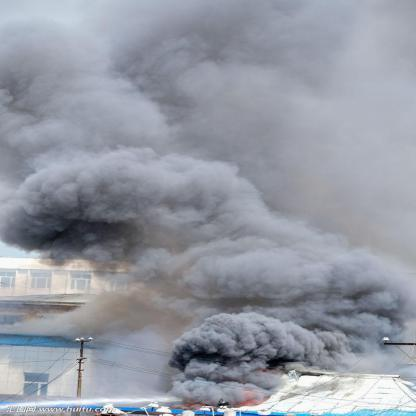smoke: (143, 1, 413, 162), (4, 6, 140, 266), (141, 166, 307, 304), (307, 266, 396, 368), (171, 311, 302, 370), (161, 374, 274, 405)
